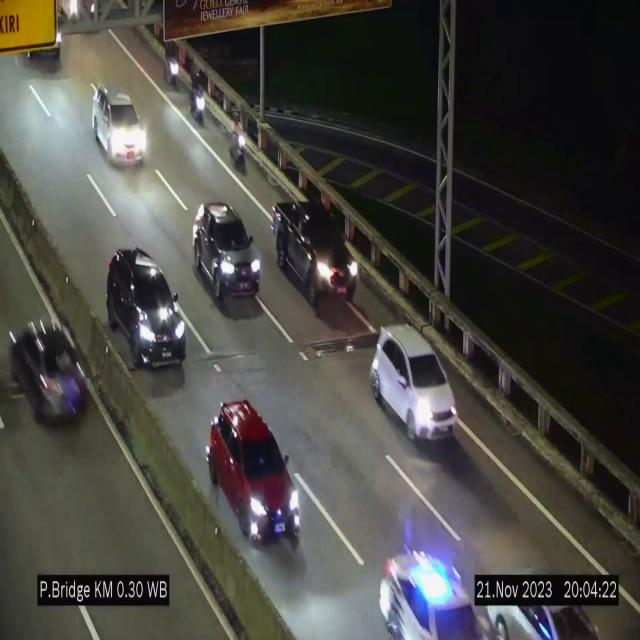Car: (206, 398, 301, 556), (371, 325, 457, 442), (106, 247, 186, 369), (272, 199, 359, 306), (191, 198, 261, 316), (92, 87, 147, 163)
Motorcycle: (228, 102, 248, 186), (188, 68, 208, 126)
